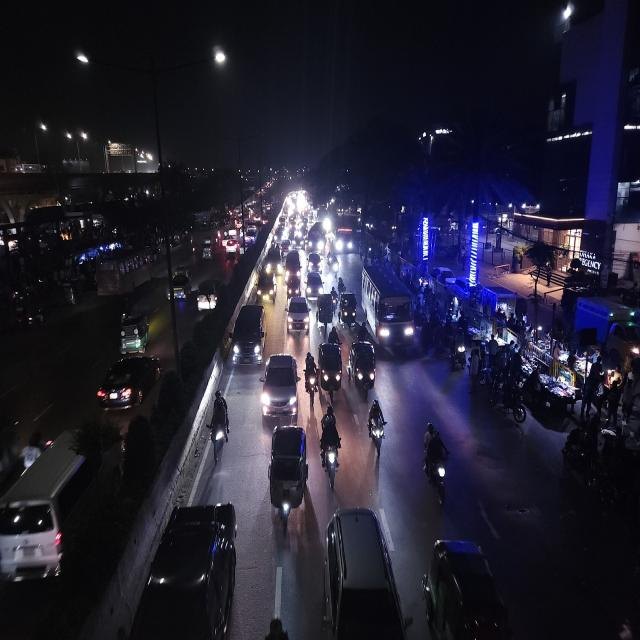bus: (362, 262, 418, 357), (94, 248, 152, 298), (333, 222, 355, 255), (306, 221, 326, 253)
car: (0, 426, 96, 594), (128, 500, 238, 640), (321, 502, 410, 640), (267, 421, 308, 534), (96, 350, 164, 416), (260, 350, 300, 424), (230, 300, 266, 370), (286, 292, 310, 339), (255, 272, 279, 304), (264, 245, 283, 277), (305, 270, 324, 299), (435, 263, 455, 288), (306, 250, 324, 274), (284, 255, 301, 276), (224, 238, 240, 255)
cng: (428, 532, 516, 640), (348, 337, 377, 398), (118, 310, 152, 352), (320, 339, 342, 399), (316, 288, 334, 334), (340, 289, 358, 331), (284, 276, 302, 297), (201, 237, 213, 263)
motorcycle: (421, 418, 452, 508), (204, 386, 232, 463), (318, 405, 342, 488), (367, 396, 387, 460), (304, 348, 317, 403), (327, 251, 338, 276), (337, 273, 346, 296), (190, 237, 197, 258)
pickup_van: (167, 267, 192, 303)
